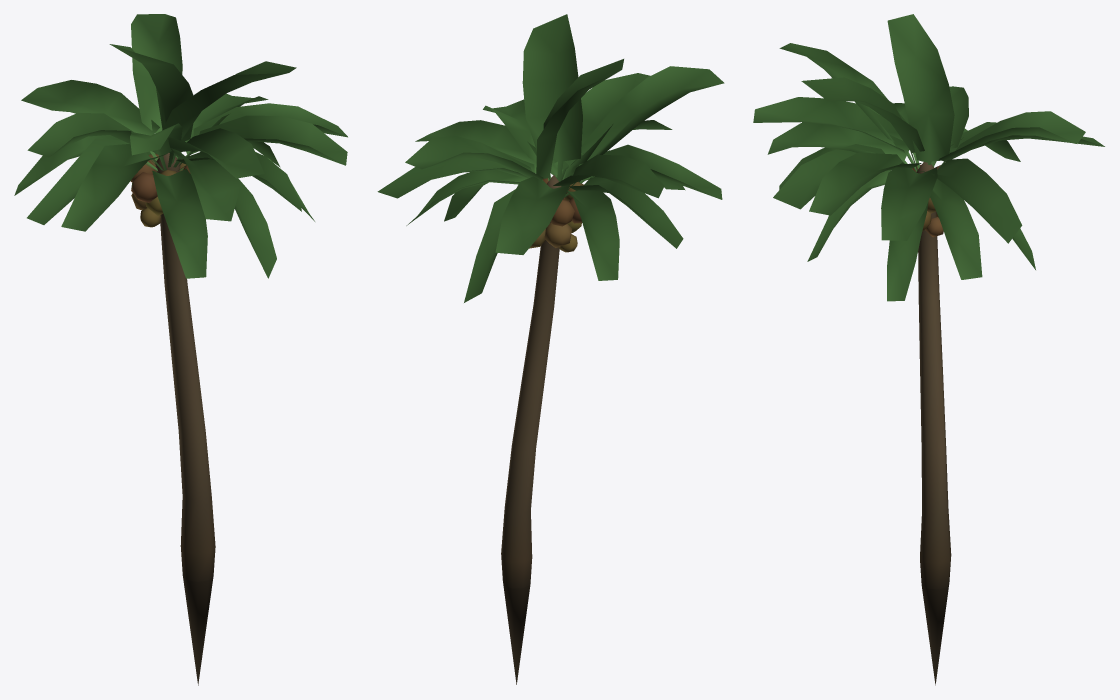
File: trees-palms-ferns-coconut-palm_v3.glb
The picture shows the model from 3 angles, left to right: view 1: azimuth 30°, elevation 25°; view 2: azimuth 150°, elevation 25°; view 3: azimuth 270°, elevation 25°; orthographic projection. The views are drawn at different scales.
Visible parts, largest first — view 1: Coconut Palm_v3; view 2: Coconut Palm_v3; view 3: Coconut Palm_v3.
Boxes of the visible parts, box(x1,y1,x2,y2) form: Coconut Palm_v3: box(14, 14, 347, 685); Coconut Palm_v3: box(377, 14, 724, 684); Coconut Palm_v3: box(753, 14, 1104, 685).
Bounding box in the file's own units: 7.04 × 15 × 7.65.
